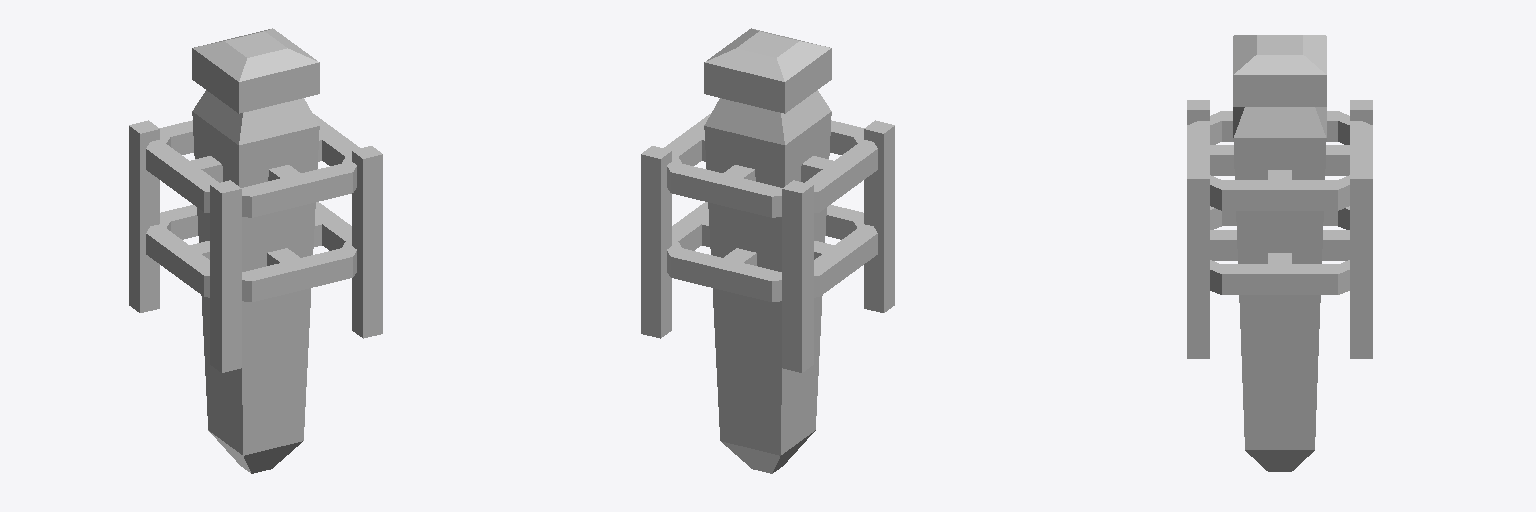
The model's file is ore_diviner.obj.
3 renders of one model, left to right at view 1: azimuth 30°, elevation 25°; view 2: azimuth 150°, elevation 25°; view 3: azimuth 270°, elevation 25°, orthographic.
Visible parts, largest first — view 1: st1, st6, st7, st5, st9, st8, st2, st4, st3; view 2: st1, st8, st5, st6, st9, st7, st4, st2, st3; view 3: st1, st8, st7, st4, st3, st5, st6, st9, st2.
Boxes of the visible parts, box(x1,y1,x2,y2) form: st1: box(192, 90, 319, 473); st6: box(190, 180, 352, 372); st7: box(192, 48, 382, 338); st5: box(146, 130, 352, 295); st9: box(129, 120, 159, 312); st8: box(193, 28, 356, 276); st2: box(146, 144, 218, 211); st4: box(160, 120, 351, 250); st3: box(313, 114, 359, 165); st1: box(704, 90, 831, 473); st8: box(641, 28, 830, 338); st5: box(671, 120, 877, 301); st6: box(723, 120, 894, 312); st9: box(667, 180, 813, 372); st7: box(702, 48, 831, 265); st4: box(671, 138, 781, 250); st2: box(805, 144, 877, 211); st3: box(664, 114, 710, 165); st1: box(1233, 107, 1326, 471); st8: box(1210, 35, 1372, 358); st7: box(1187, 75, 1349, 358); st4: box(1222, 126, 1372, 294); st3: box(1222, 180, 1337, 210); st5: box(1187, 111, 1372, 225); st6: box(1187, 100, 1349, 260); st9: box(1338, 100, 1372, 294); st2: box(1222, 111, 1337, 141).
Size of the model in its own units: 1 by 2.5 by 1.